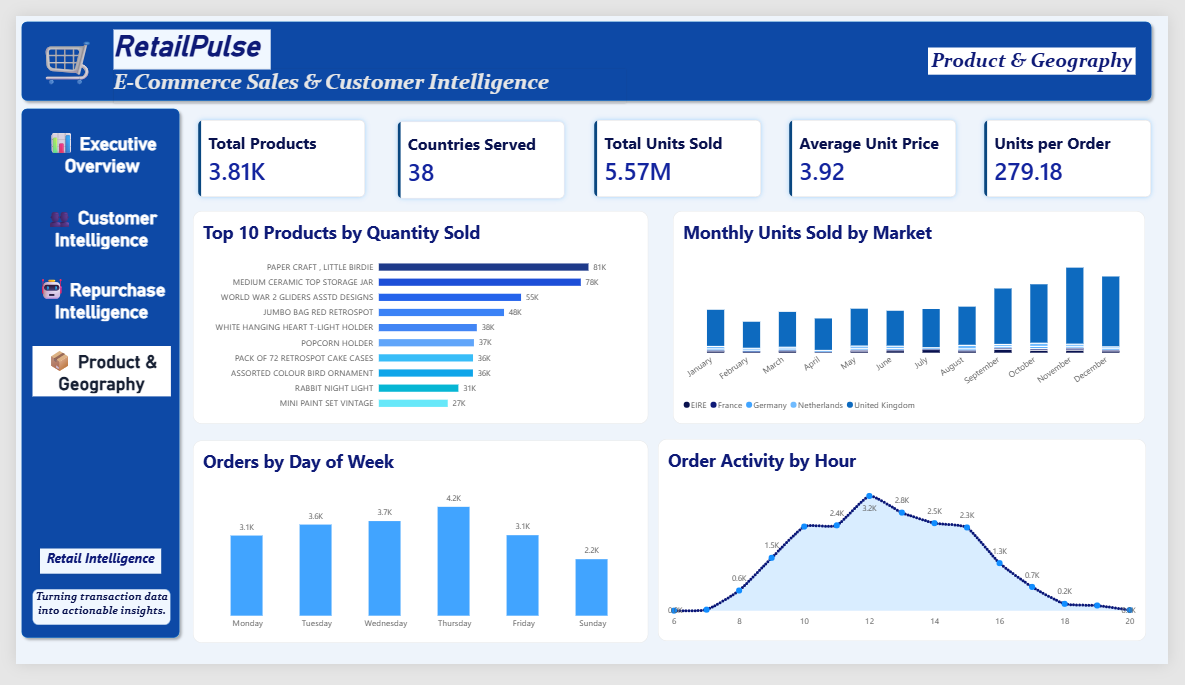

The page's visual inventory and layout, read from the dashboard file:
{"tool":"powerbi","page":{"name":"Page 4","canvas":[1920,1080],"ordinal":3},"visuals":[{"type":"shape","box":[0,144,281.5,900.3],"z":0},{"type":"textbox","title":"👥 Customer Intelligence","box":[27.9,309.4,230.6,106.2],"z":1000},{"type":"textbox","title":"📊 Executive Overview ","box":[27.5,187.5,232.5,122.5],"z":2000},{"type":"textbox","title":"🤖 Repurchase Intelligence","box":[27.5,430,230.6,110.6],"z":3000},{"type":"textbox","title":"📦 Product & Geography","box":[27.5,550,230.6,111.2],"z":4000},{"type":"cardVisual","fields":{"Data":["customer_predictions.Total Products"]},"box":[293.3,163.3,300,150],"z":5000},{"type":"cardVisual","fields":{"Data":["customer_predictions.Countries Served"]},"box":[625,163.8,300,150],"z":6000},{"type":"cardVisual","fields":{"Data":["customer_predictions.Total Units Sold"]},"box":[951.8,163.3,300,150],"z":7000},{"type":"cardVisual","fields":{"Data":["customer_predictions.Average Unit Price"]},"box":[1276.3,163.3,300,150],"z":8000},{"type":"cardVisual","fields":{"Data":["customer_predictions.Units per Order"]},"box":[1601.7,163.3,300,150],"z":9000},{"type":"clusteredBarChart","title":"Top 10 Products by Quantity Sold","fields":{"Category":["retail_clean.Description"],"Y":["Sum(retail_clean.Quantity)"]},"box":[294.4,324.4,758.5,354.5],"z":10000},{"type":"columnChart","title":"Orders by Day of Week","fields":{"Category":["retail_clean.DayOfWeek"],"Y":["Count(retail_clean.InvoiceNo)"]},"box":[294.4,706.9,758.5,337.3],"z":11000},{"type":"columnChart","title":"Monthly Units Sold by Market","fields":{"Category":["retail_clean.MonthName"],"Series":["retail_clean.Country"],"Y":["Sum(retail_clean.Quantity)"]},"box":[1095.8,324.4,786.4,354.5],"z":12000},{"type":"lineChart","title":"Order Activity by Hour","fields":{"Category":["retail_clean.Hour"],"Y":["Count(retail_clean.InvoiceNo)"]},"box":[1068.9,706.2,813.6,336.4],"z":13000},{"type":"shape","box":[0,0,1901.5,150.4],"z":14000},{"type":"textbox","title":"🛒","box":[15,22.5,140,127.5],"z":15000},{"type":"textbox","title":"RetailPulse","box":[163.3,21.5,262.1,66.6],"z":16000},{"type":"textbox","title":"E-Commerce Sales & Customer Intelligence","box":[162.5,87.5,854.2,57.3],"z":17000},{"type":"textbox","title":"Product & Geography","box":[1519.1,51.6,345.9,45.1],"z":18000},{"type":"textbox","title":"Retail Intelligence","box":[40.8,887.4,202.2,42.2],"z":19000},{"type":"textbox","title":"Turning transaction data into actionable insights.","box":[27.9,954,229.9,60.2],"z":20000}]}

Visuals, with their boxes in screenshot pixels (x1, y1, x2, y2), scaled from the page's 1920x1080 canvas onto the 1185x685 screenshot:
shape: BBox(0, 91, 174, 662)
"👥 Customer Intelligence" textbox: BBox(17, 196, 160, 264)
"📊 Executive Overview " textbox: BBox(17, 119, 160, 197)
"🤖 Repurchase Intelligence" textbox: BBox(17, 273, 159, 343)
"📦 Product & Geography" textbox: BBox(17, 349, 159, 419)
cardVisual - customer_predictions.Total Products: BBox(181, 104, 366, 199)
cardVisual - customer_predictions.Countries Served: BBox(386, 104, 571, 199)
cardVisual - customer_predictions.Total Units Sold: BBox(587, 104, 773, 199)
cardVisual - customer_predictions.Average Unit Price: BBox(788, 104, 973, 199)
cardVisual - customer_predictions.Units per Order: BBox(989, 104, 1174, 199)
"Top 10 Products by Quantity Sold" clusteredBarChart: BBox(182, 206, 650, 431)
"Orders by Day of Week" columnChart: BBox(182, 448, 650, 662)
"Monthly Units Sold by Market" columnChart: BBox(676, 206, 1162, 431)
"Order Activity by Hour" lineChart: BBox(660, 448, 1162, 661)
shape: BBox(0, 0, 1174, 95)
"🛒" textbox: BBox(9, 14, 96, 95)
"RetailPulse" textbox: BBox(101, 14, 263, 56)
"E-Commerce Sales & Customer Intelligence" textbox: BBox(100, 55, 627, 92)
"Product & Geography" textbox: BBox(938, 33, 1151, 61)
"Retail Intelligence" textbox: BBox(25, 563, 150, 590)
"Turning transaction data into actionable insights." textbox: BBox(17, 605, 159, 643)
